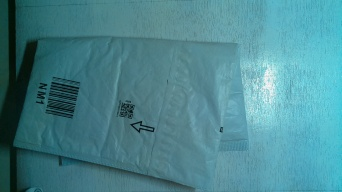a: (27, 32, 248, 192)
